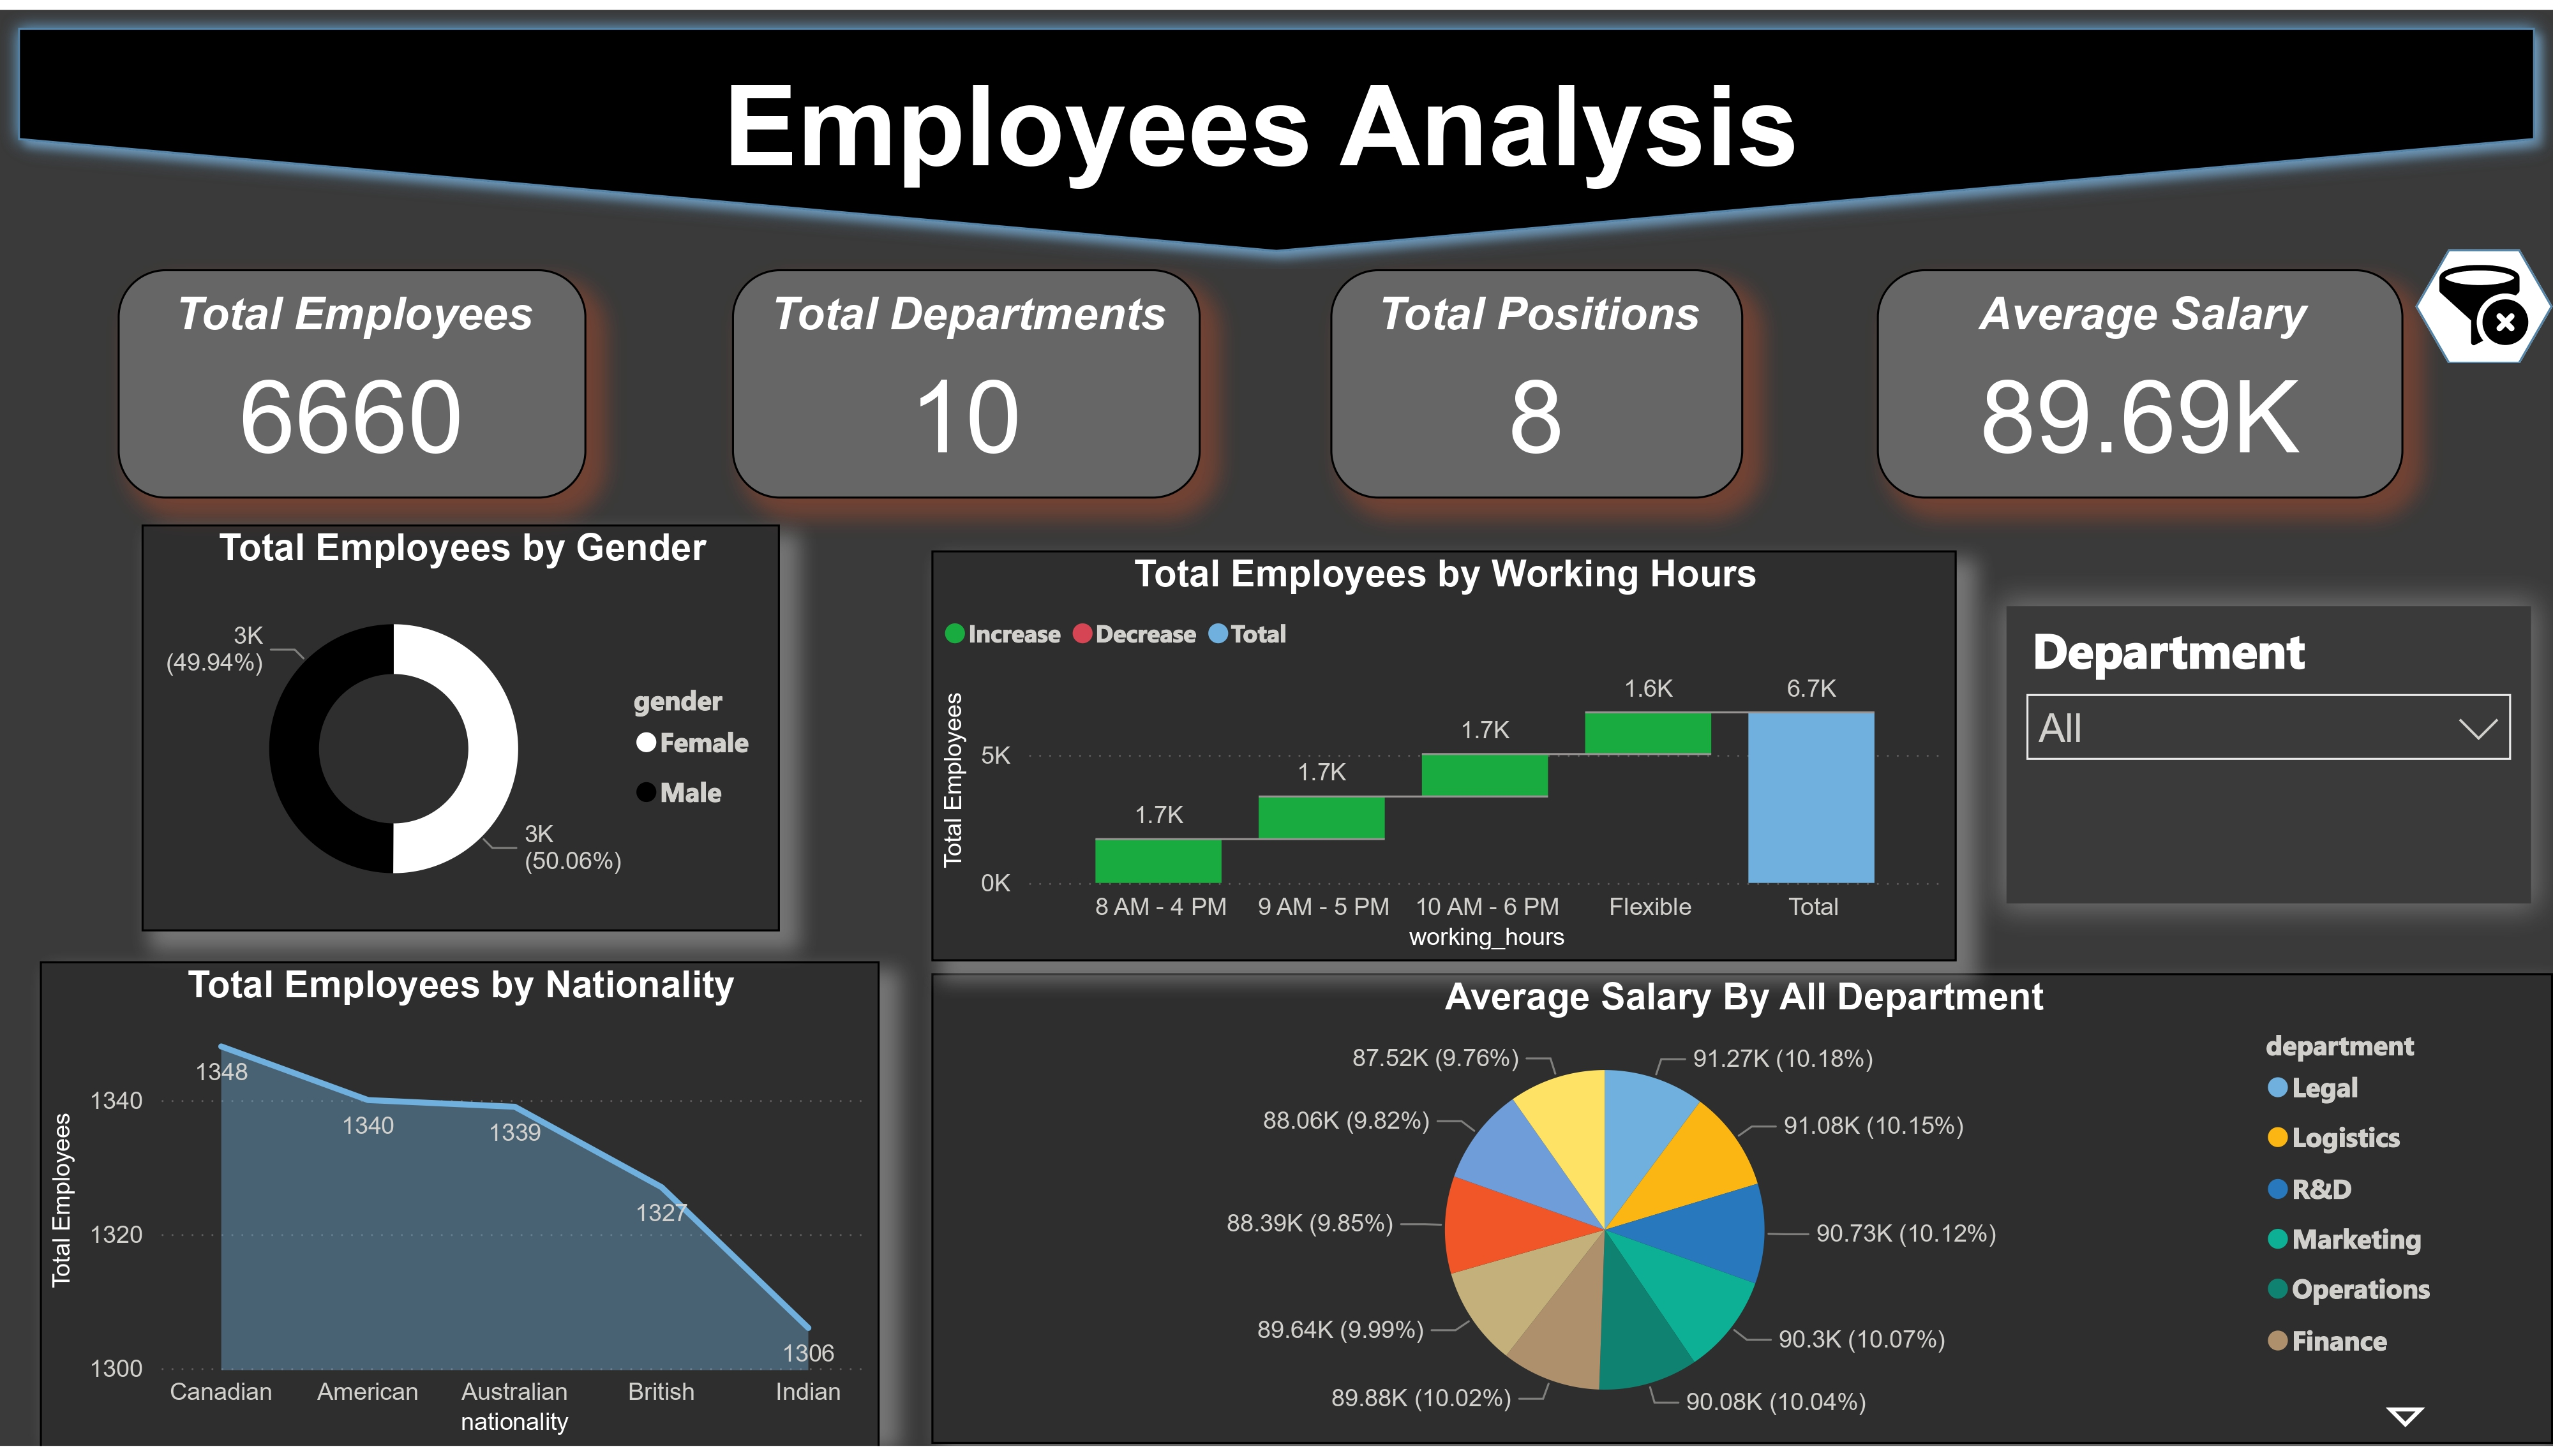

Layout of this report page (visuals, bound fields, positions):
{"tool":"powerbi","page":{"name":"Main Page","canvas":[1280,720],"ordinal":0},"visuals":[{"type":"shape","box":[0,0,1280,130.3],"z":0},{"type":"textbox","box":[322.9,21.4,618.6,86.6],"z":1000},{"type":"card","title":"Total Employees","fields":{"Values":["employee_dataset.TotalEmployees"]},"box":[58.6,130,234.6,114.7],"z":2000},{"type":"card","title":"Average Salary","fields":{"Values":["employee_dataset.AvgSalary"]},"box":[940.9,130,263.9,114.7],"z":3000},{"type":"card","title":"Total Departments","fields":{"Values":["employee_dataset.DepartmentsCount"]},"box":[367.2,130,234.6,114.7],"z":4000},{"type":"donutChart","title":"Total Employees by Gender","fields":{"Y":["employee_dataset.TotalEmployees"],"Category":["gender.gender"]},"box":[70.9,257.8,319.8,203.8],"z":5000},{"type":"card","title":"Total Positions","fields":{"Values":["city.PositionsCount"]},"box":[666.8,130,206.5,114.7],"z":6000},{"type":"pieChart","fields":{"Category":["department.department"],"Y":["employee_dataset.AvgSalary"]},"box":[466.9,483.4,813.1,236.3],"z":7000},{"type":"waterfallChart","title":"Total Employees by Working Hours","fields":{"Category":["working_hours.working_hours"],"Y":["employee_dataset.TotalEmployees"]},"box":[466.6,270.7,513.8,206.2],"z":8000},{"type":"stackedAreaChart","title":"Total Employees by Nationality","fields":{"Category":["nationality.nationality"],"Y":["employee_dataset.TotalEmployees"]},"box":[20.4,476.8,420.7,243.5],"z":9000},{"type":"slicer","fields":{"Values":["department.department"]},"box":[1006.2,298.8,262.8,148.9],"z":10000},{"type":"shape","box":[1211.2,119.8,68.8,57.4],"z":11000},{"type":"image","box":[1217.5,119.8,56.1,56.1],"z":12000}]}

Visuals, with their boxes in screenshot pixels (x1, y1, x2, y2), scaled from the page's 1280x720 canvas onto the 2553x1456 screenshot:
shape: 0, 0, 2552, 264
textbox: 644, 43, 1878, 218
"Total Employees" card: 117, 263, 585, 495
"Average Salary" card: 1876, 263, 2403, 495
"Total Departments" card: 733, 263, 1201, 495
"Total Employees by Gender" donutChart: 142, 521, 779, 933
"Total Positions" card: 1330, 263, 1742, 495
pieChart - department.department x employee_dataset.AvgSalary: 931, 977, 2552, 1455
"Total Employees by Working Hours" waterfallChart: 931, 547, 1956, 965
"Total Employees by Nationality" stackedAreaChart: 41, 964, 880, 1455
slicer - department.department: 2007, 604, 2531, 905
shape: 2416, 242, 2552, 359
image: 2429, 242, 2540, 356
